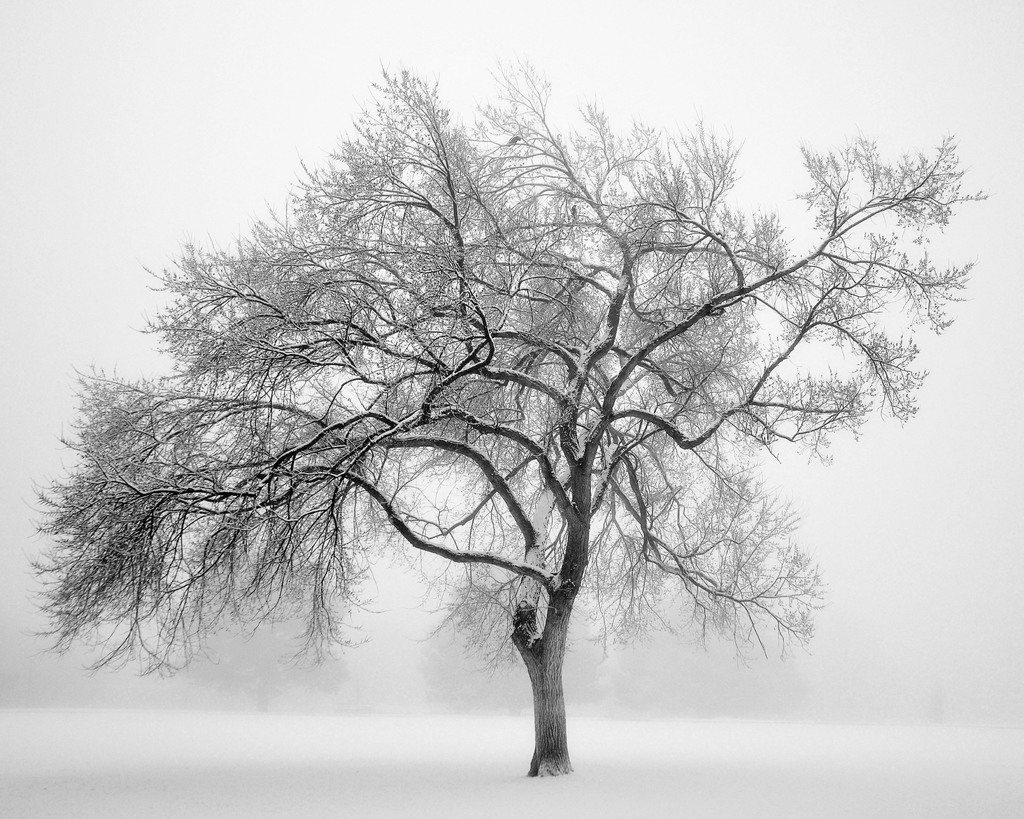Tree: (37, 62, 961, 788)
